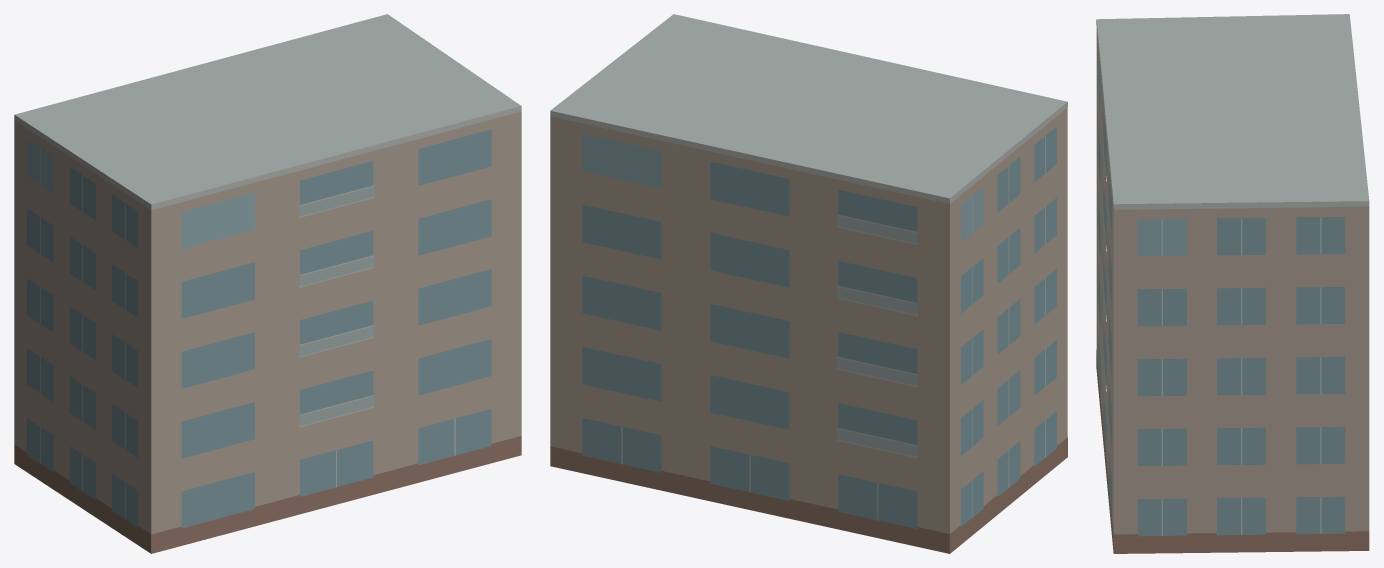
Rendered from survey-upis-32974337.glb.
3 renders of one model, left to right at view 1: azimuth 30°, elevation 25°; view 2: azimuth 150°, elevation 25°; view 3: azimuth 270°, elevation 25°, orthographic.
Parts seen in each view (by area): view 1: survey-upis-32974337.tmp; view 2: survey-upis-32974337.tmp; view 3: survey-upis-32974337.tmp.
Boxes of the visible parts, <box> form: survey-upis-32974337.tmp: <box>14,14,521,553</box>; survey-upis-32974337.tmp: <box>550,14,1067,553</box>; survey-upis-32974337.tmp: <box>1096,14,1369,553</box>.
Size of the model in its own units: 17.8 by 15.25 by 10.79.
